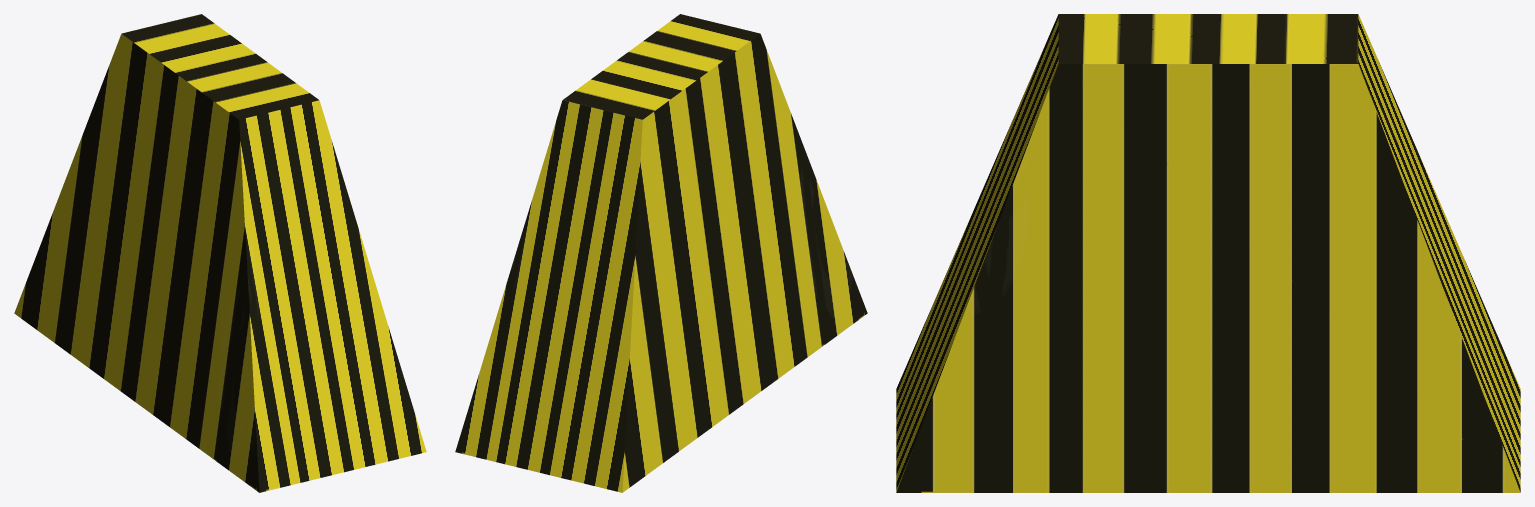
Rendered from plane stopper.fbx.
3 renders of one model, left to right at view 1: azimuth 30°, elevation 25°; view 2: azimuth 150°, elevation 25°; view 3: azimuth 270°, elevation 25°, orthographic. The views are drawn at different scales.
Visible parts, largest first — view 1: Cube; view 2: Cube; view 3: Cube.
Boxes of the visible parts, x1,y1,x2,y2 form: Cube: (14, 14, 426, 492); Cube: (455, 14, 867, 492); Cube: (896, 14, 1520, 492).
Size of the model in its own units: 78.76 by 142 by 200.
